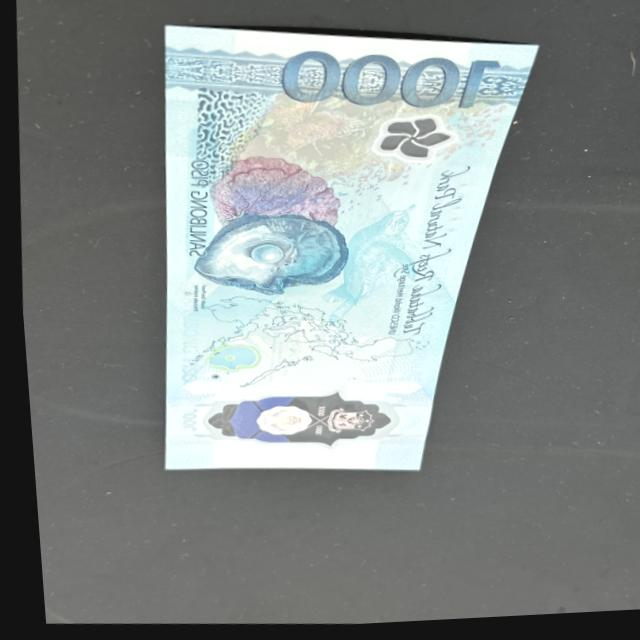clear_window: (191, 384, 408, 462)
sampaguita: (362, 113, 452, 173)
value: (287, 49, 508, 122)
